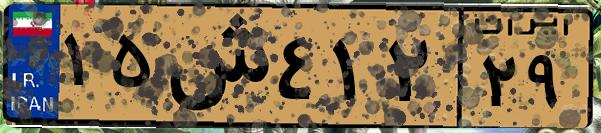1: (330, 28, 385, 110), (57, 26, 110, 100)
2: (385, 28, 445, 110), (475, 38, 525, 113)
4: (270, 28, 330, 110)
5: (110, 28, 158, 98)
9: (525, 38, 570, 115)
ش: (158, 12, 270, 120)
